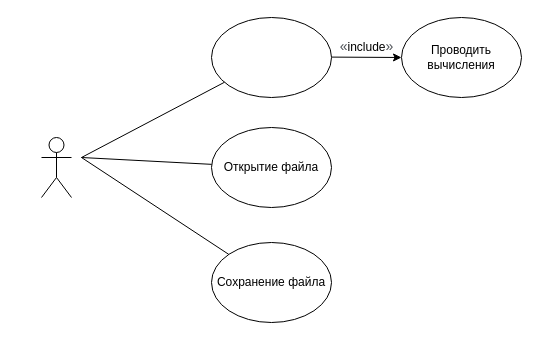
Image size: 539x340. Some labels were removed from this diagram. The shapes that lost their labels are listed below. From the top down, each one's centre as x and y in pixels, then its label:
At pixel 271 57: "Сохранение отчёта".
At pixel 56 167: "Пользователь".
